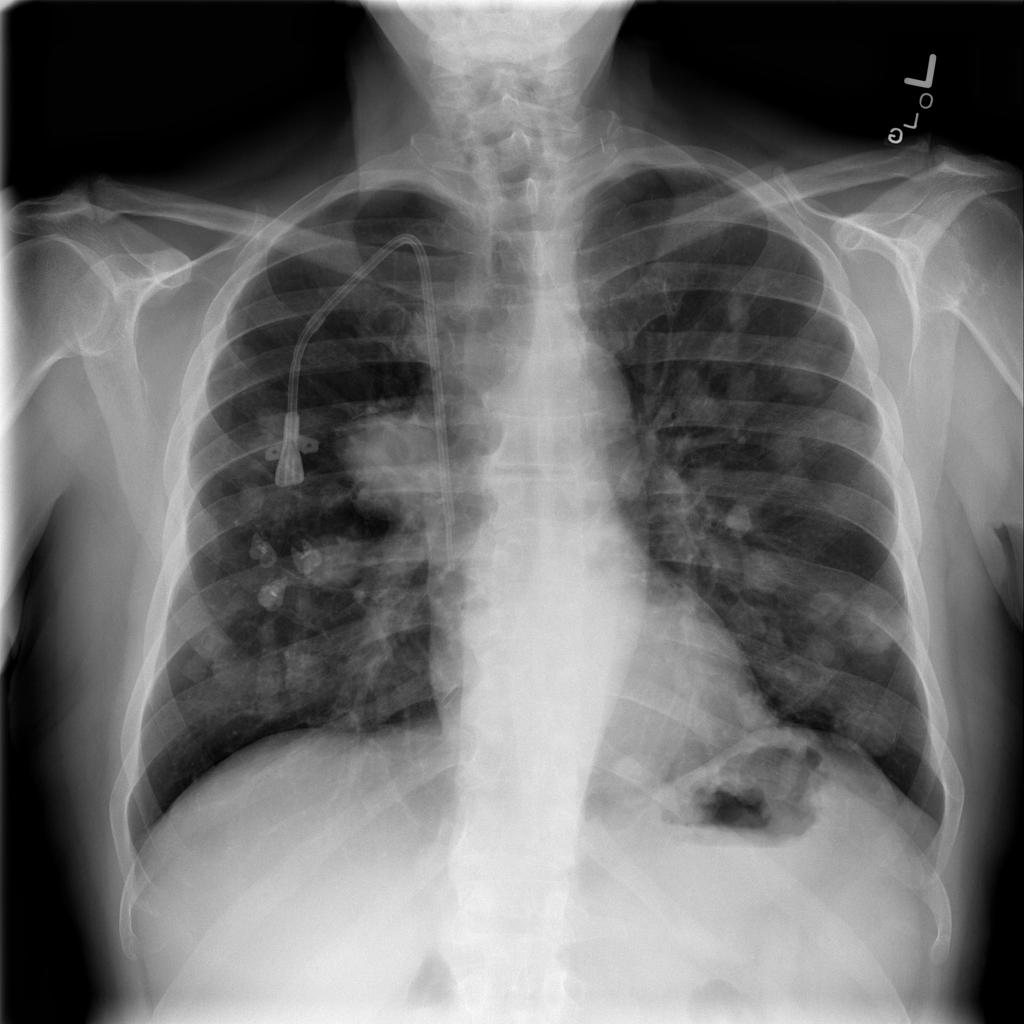nodule: (291, 521, 380, 596), (825, 689, 914, 763), (263, 639, 340, 715), (763, 633, 841, 708), (838, 586, 912, 662), (730, 535, 802, 604), (768, 342, 840, 410), (704, 269, 768, 345), (795, 574, 869, 639), (803, 471, 879, 534), (718, 675, 788, 743), (220, 472, 287, 540), (755, 429, 827, 492), (713, 488, 768, 539), (665, 366, 716, 420), (719, 355, 771, 407)
